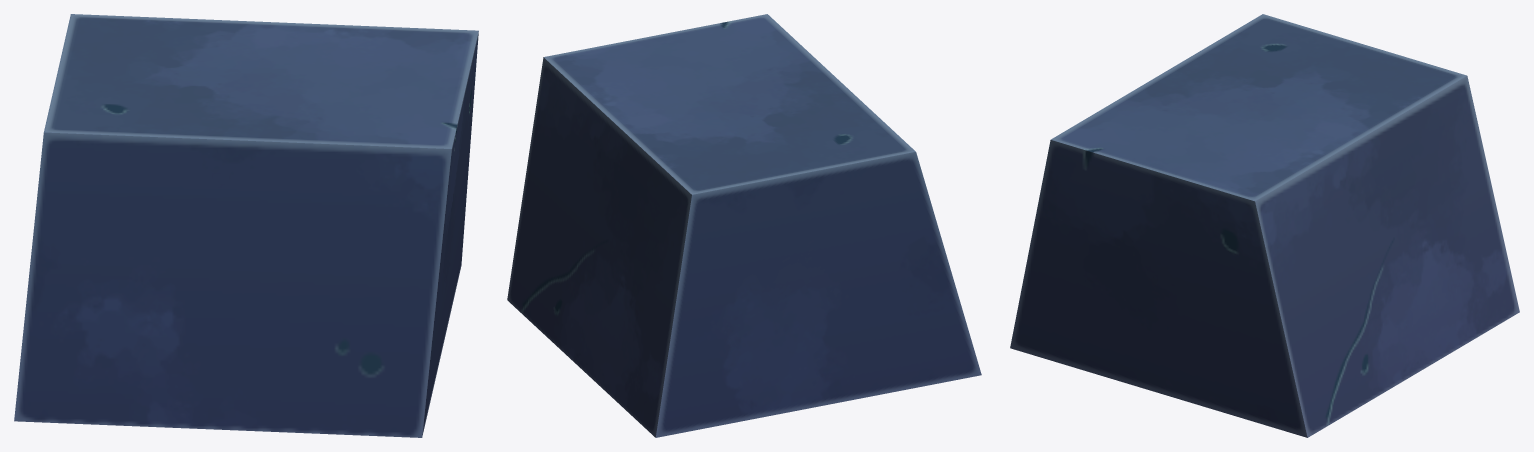
Rendered from stone_02.glb.
The picture shows the model from 3 angles, left to right: view 1: azimuth 30°, elevation 25°; view 2: azimuth 150°, elevation 25°; view 3: azimuth 270°, elevation 25°; orthographic projection. The views are drawn at different scales.
Visible parts, largest first — view 1: Rocks.002; view 2: Rocks.002; view 3: Rocks.002.
Part boxes in pixels (left/top/right/bottom): Rocks.002: left=14, top=14, right=478, bottom=437; Rocks.002: left=507, top=14, right=981, bottom=437; Rocks.002: left=1010, top=14, right=1519, bottom=437.
Bounding box in the file's own units: 2.79 × 1.4 × 2.79.
Materials: 1 (1 with a texture image).
